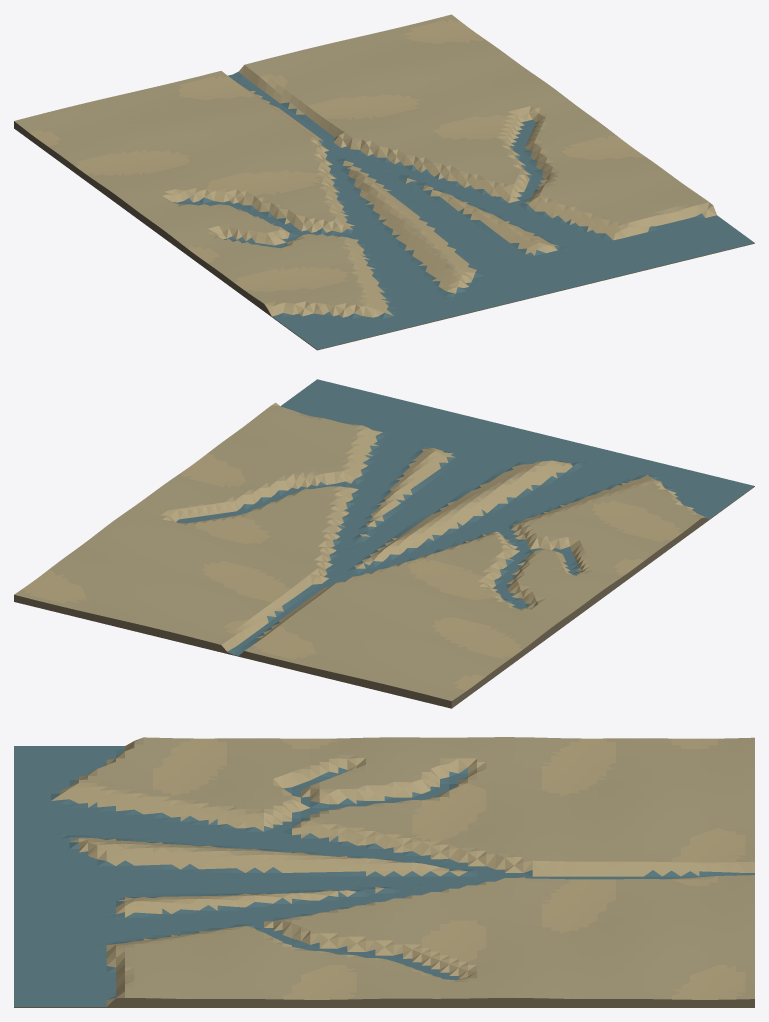
The picture shows the model from 3 angles, top to bottom: view 1: azimuth 30°, elevation 25°; view 2: azimuth 150°, elevation 25°; view 3: azimuth 270°, elevation 25°; orthographic projection. The views are drawn at different scales.
Visible parts, largest first — view 1: tide_delta_connected_downstream_flaring_channels_and_elongat; view 2: tide_delta_connected_downstream_flaring_channels_and_elongat; view 3: tide_delta_connected_downstream_flaring_channels_and_elongat.
Part boxes in pixels (left/top/right/bottom): tide_delta_connected_downstream_flaring_channels_and_elongat: left=14, top=14, right=754, bottom=350; tide_delta_connected_downstream_flaring_channels_and_elongat: left=14, top=379, right=754, bottom=708; tide_delta_connected_downstream_flaring_channels_and_elongat: left=14, top=737, right=754, bottom=1007.
Bounding box in the file's own units: 10000 × 178 × 12000.
